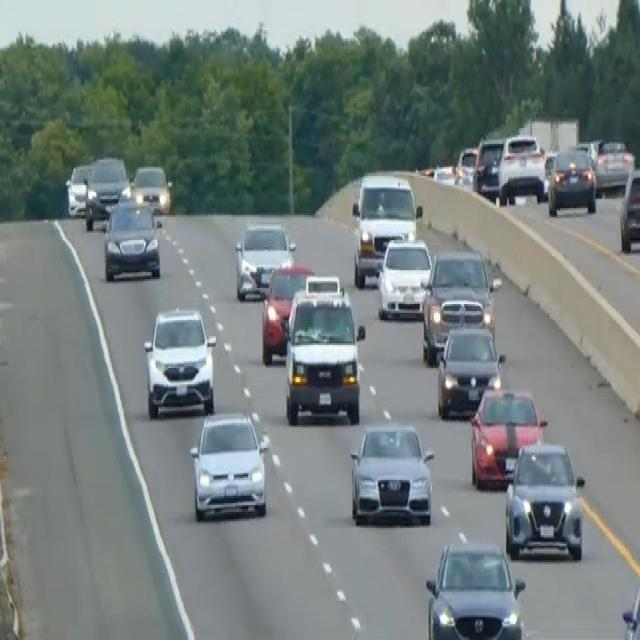car: (424, 537, 526, 638), (503, 439, 585, 560), (349, 418, 434, 526), (420, 247, 499, 363), (189, 409, 269, 521), (142, 304, 217, 418), (468, 382, 546, 489), (435, 322, 505, 418), (260, 261, 314, 363), (102, 195, 162, 281), (233, 220, 296, 300), (376, 235, 432, 320), (497, 132, 546, 204), (547, 144, 596, 215), (84, 153, 128, 229), (594, 137, 634, 194), (131, 162, 172, 213), (472, 135, 503, 199), (619, 165, 639, 252), (64, 162, 91, 217), (454, 144, 478, 188), (304, 272, 342, 297)
minivan: (282, 284, 366, 425), (350, 169, 423, 288)
